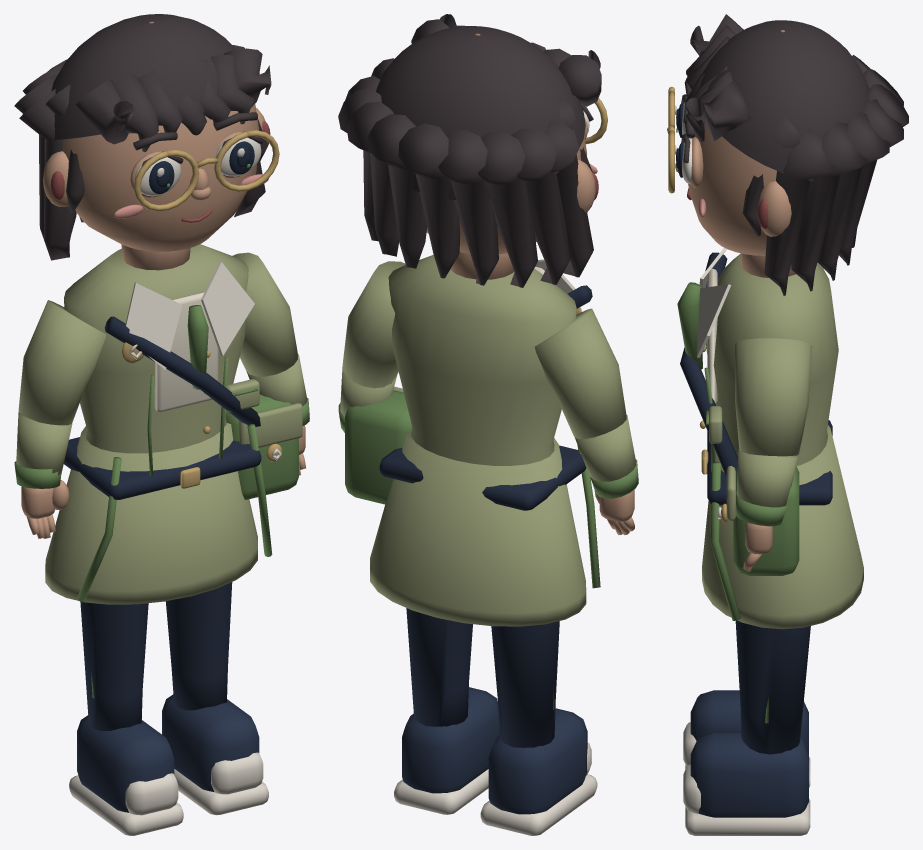
Rendered from npc_farmtown_lieutenant_3.glb.
The picture shows the model from 3 angles, left to right: view 1: azimuth 30°, elevation 25°; view 2: azimuth 150°, elevation 25°; view 3: azimuth 270°, elevation 25°; orthographic projection.
Visible parts, largest first — view 1: figure.040; view 2: figure.040; view 3: figure.040.
Part boxes in pixels (<box>): figure.040: <box>14,14,309,835</box>; figure.040: <box>338,14,638,835</box>; figure.040: <box>667,14,908,835</box>.
Bounding box in the file's own units: 0.6752 × 1.72 × 0.488.
